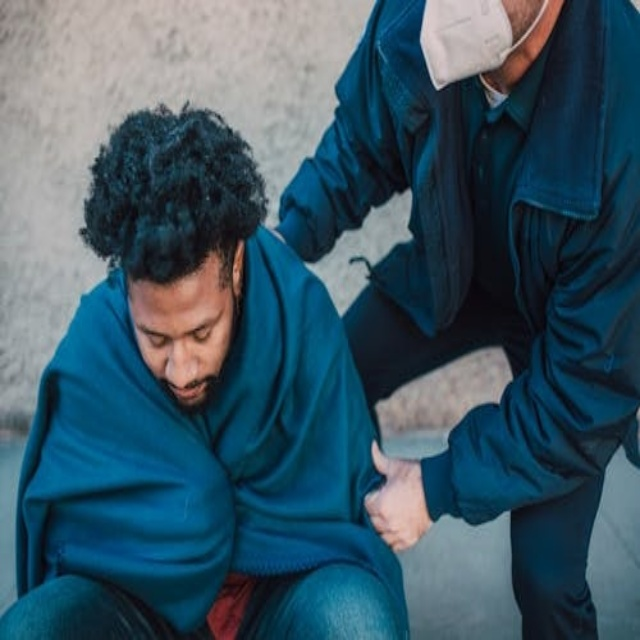Mascara: (419, 1, 547, 94)
Sin_gafas: (129, 308, 223, 359)
Sin_guantes: (362, 438, 431, 553)
Sin_mascara: (160, 371, 216, 409)
